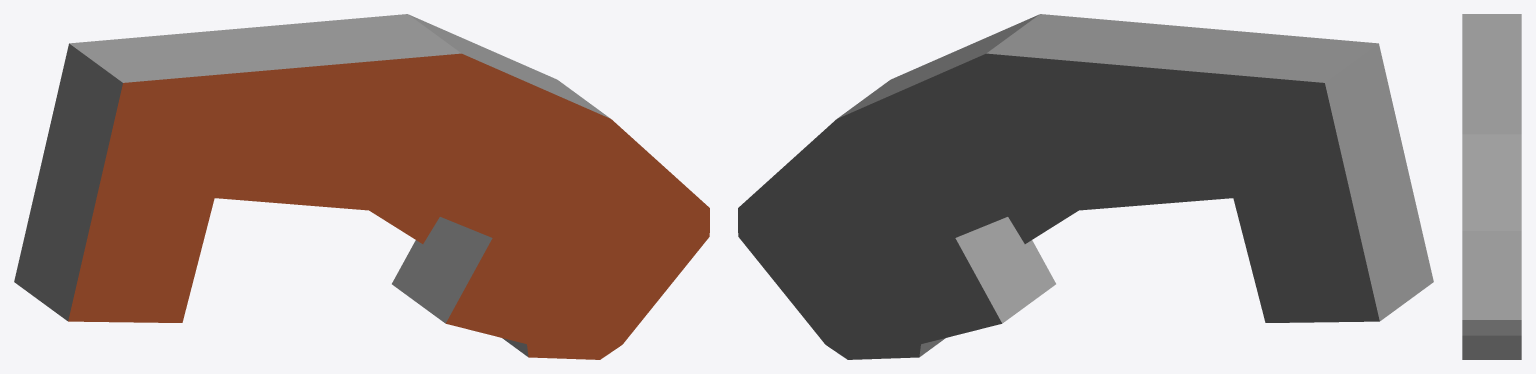
Rendered from construction_4744_assumed_A_Casa_h6m.obj.
The picture shows the model from 3 angles, left to right: view 1: azimuth 30°, elevation 25°; view 2: azimuth 150°, elevation 25°; view 3: azimuth 270°, elevation 25°; orthographic projection. The views are drawn at different scales.
Visible parts, largest first — view 1: construction_4744_assumed_A_Casa; view 2: construction_4744_assumed_A_Casa; view 3: construction_4744_assumed_A_Casa.
Boxes of the visible parts, x1,y1,x2,y2 form: construction_4744_assumed_A_Casa: [14, 14, 709, 359]; construction_4744_assumed_A_Casa: [738, 14, 1433, 359]; construction_4744_assumed_A_Casa: [1462, 14, 1521, 359].
Bounding box in the file's own units: 41.13 × 24.09 × 6.
